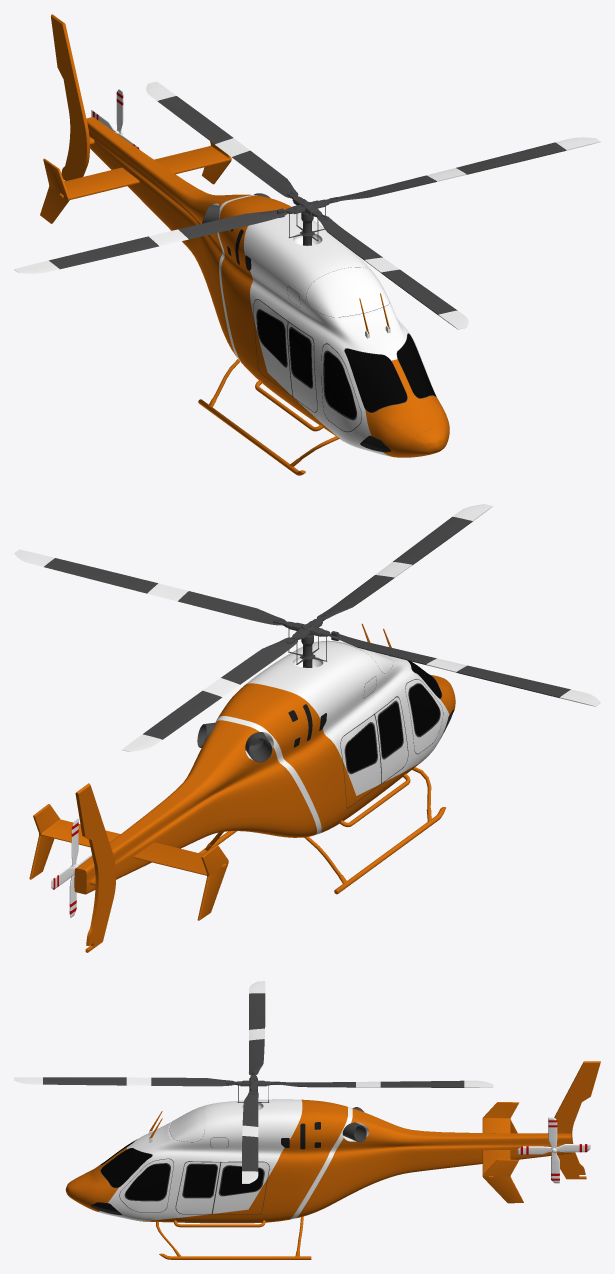
The model's file is bell_429_helicopter.glb.
The picture shows the model from 3 angles, top to bottom: view 1: azimuth 30°, elevation 25°; view 2: azimuth 150°, elevation 25°; view 3: azimuth 270°, elevation 25°; orthographic projection. The views are drawn at different scales.
Parts seen in each view (by area): view 1: Object_4, Object_5, Object_7, Object_2, Object_9, Object_3, Object_6; view 2: Object_4, Object_7, Object_5, Object_2, Object_9, Object_6, Object_3; view 3: Object_4, Object_5, Object_7, Object_2, Object_9, Object_3, Object_6.
Boxes of the visible parts, x1,y1,x2,y2 form: Object_4: [86, 117, 449, 457]; Object_5: [217, 195, 434, 456]; Object_7: [14, 81, 600, 431]; Object_2: [40, 14, 416, 436]; Object_9: [257, 310, 436, 418]; Object_3: [253, 299, 436, 432]; Object_6: [63, 130, 339, 475]; Object_4: [74, 674, 455, 894]; Object_7: [14, 504, 600, 917]; Object_5: [215, 621, 449, 834]; Object_2: [29, 613, 408, 952]; Object_9: [345, 660, 441, 772]; Object_6: [70, 624, 445, 949]; Object_3: [340, 662, 443, 795]; Object_4: [65, 1099, 571, 1223]; Object_5: [98, 1077, 352, 1220]; Object_7: [14, 981, 590, 1227]; Object_2: [169, 1061, 600, 1214]; Object_9: [101, 1139, 263, 1200]; Object_3: [100, 1141, 269, 1213]; Object_6: [156, 1079, 586, 1259].
Size of the model in its own units: 22.35 by 8.66 by 27.37.
Materials: 2 (1 with a texture image).
